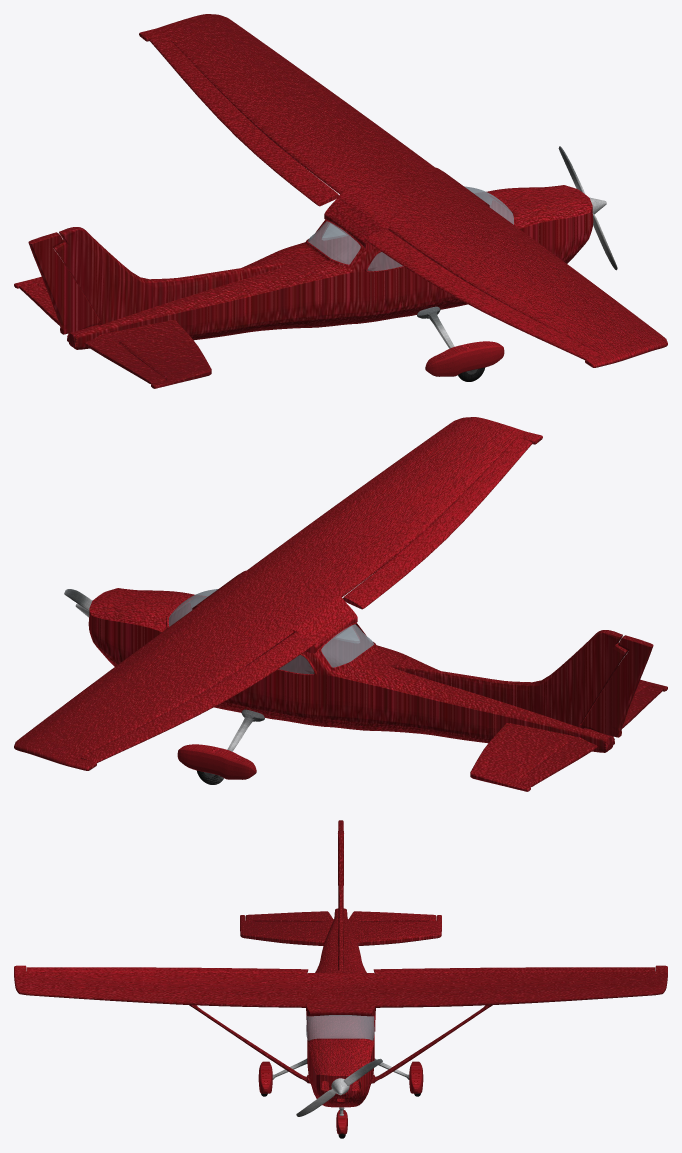
Rendered from Rectangular.glb.
The picture shows the model from 3 angles, top to bottom: view 1: azimuth 30°, elevation 25°; view 2: azimuth 150°, elevation 25°; view 3: azimuth 270°, elevation 25°; orthographic projection. The views are drawn at different scales.
Visible parts, largest first — view 1: Shape_IndexedFaceSet.006, Shape_IndexedFaceSet.002, Shape_IndexedFaceSet.016, Shape_IndexedFaceSet.008, Shape_IndexedFaceSet.010; view 2: Shape_IndexedFaceSet.006, Shape_IndexedFaceSet.002, Shape_IndexedFaceSet, Shape_IndexedFaceSet.008; view 3: Shape_IndexedFaceSet.006, Shape_IndexedFaceSet.002, Shape_IndexedFaceSet.005, Shape_IndexedFaceSet.010.
Part boxes in pixels (<box>): Shape_IndexedFaceSet.006: <box>139,14,667,367</box>; Shape_IndexedFaceSet.002: <box>14,185,593,388</box>; Shape_IndexedFaceSet.016: <box>425,341,504,376</box>; Shape_IndexedFaceSet.008: <box>308,221,360,264</box>; Shape_IndexedFaceSet.010: <box>558,146,617,270</box>; Shape_IndexedFaceSet.006: <box>14,417,542,770</box>; Shape_IndexedFaceSet.002: <box>88,588,667,791</box>; Shape_IndexedFaceSet: <box>177,744,256,779</box>; Shape_IndexedFaceSet.008: <box>321,624,373,667</box>; Shape_IndexedFaceSet.006: <box>14,965,667,1083</box>; Shape_IndexedFaceSet.002: <box>240,820,441,1107</box>; Shape_IndexedFaceSet.005: <box>306,1015,374,1040</box>; Shape_IndexedFaceSet.010: <box>296,1058,382,1116</box>.
Size of the model in its own units: 1347 by 447 by 1845.
4 materials, 3 textured.
